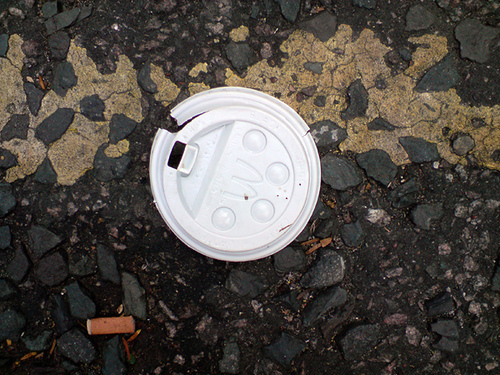litter: (150, 86, 320, 263), (86, 316, 136, 336)
